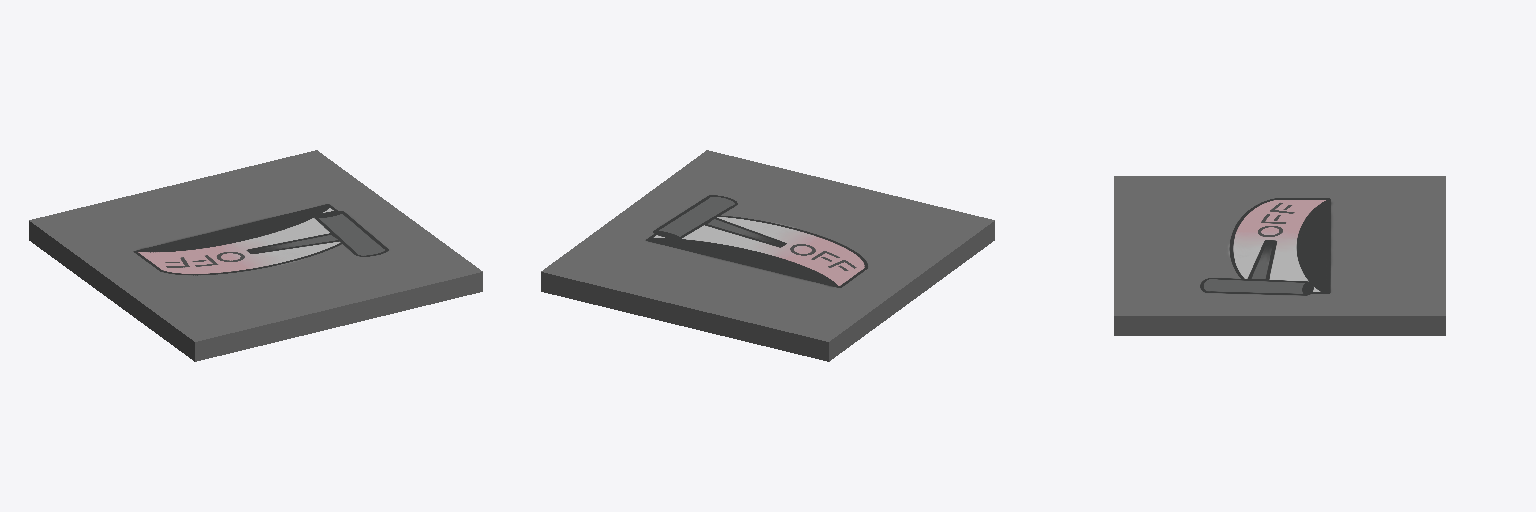
The picture shows the model from 3 angles: view 1: azimuth 30°, elevation 25°; view 2: azimuth 150°, elevation 25°; view 3: azimuth 270°, elevation 25°; orthographic projection.
Visible parts, largest first — view 1: Cube_Cube.001; view 2: Cube_Cube.001; view 3: Cube_Cube.001.
Boxes of the visible parts, x1=… form: Cube_Cube.001: x1=29, y1=150, x2=482, y2=361; Cube_Cube.001: x1=541, y1=150, x2=994, y2=361; Cube_Cube.001: x1=1114, y1=176, x2=1445, y2=335.
Bounding box in the file's own units: 4.52 × 0.2976 × 4.52.
1 materials, 1 textured.